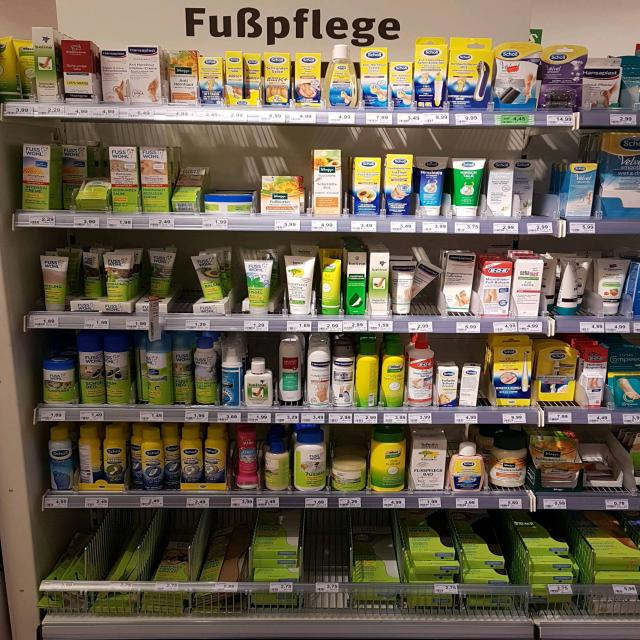void: (302, 511, 348, 614), (540, 157, 560, 235)
